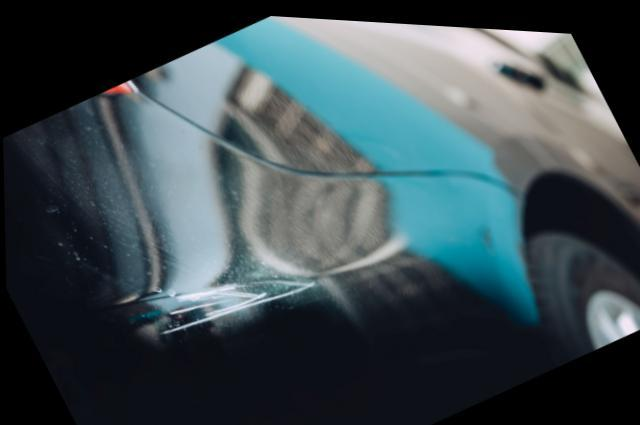scratch: (154, 270, 326, 338)
